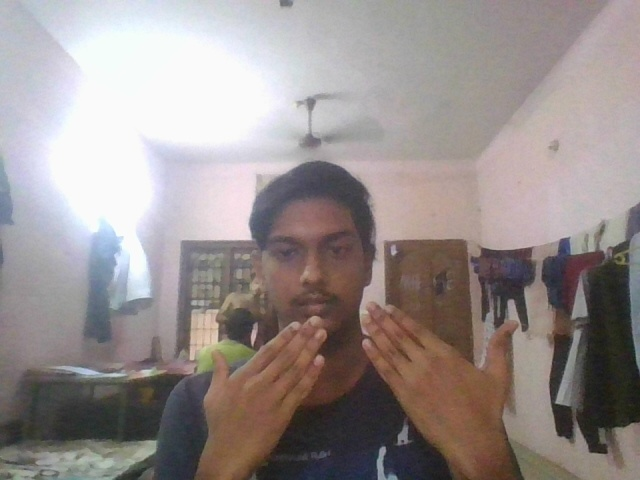thankyou: (200, 301, 523, 448)
